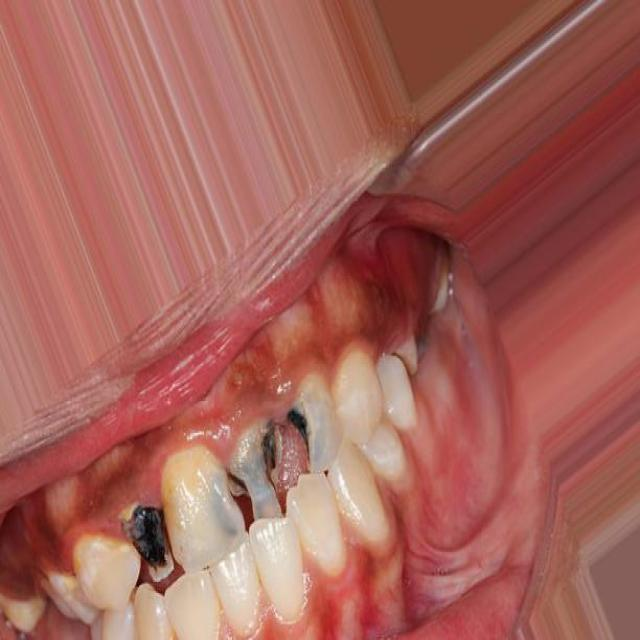caries: (224, 410, 284, 522), (121, 492, 176, 587), (288, 382, 326, 486)
